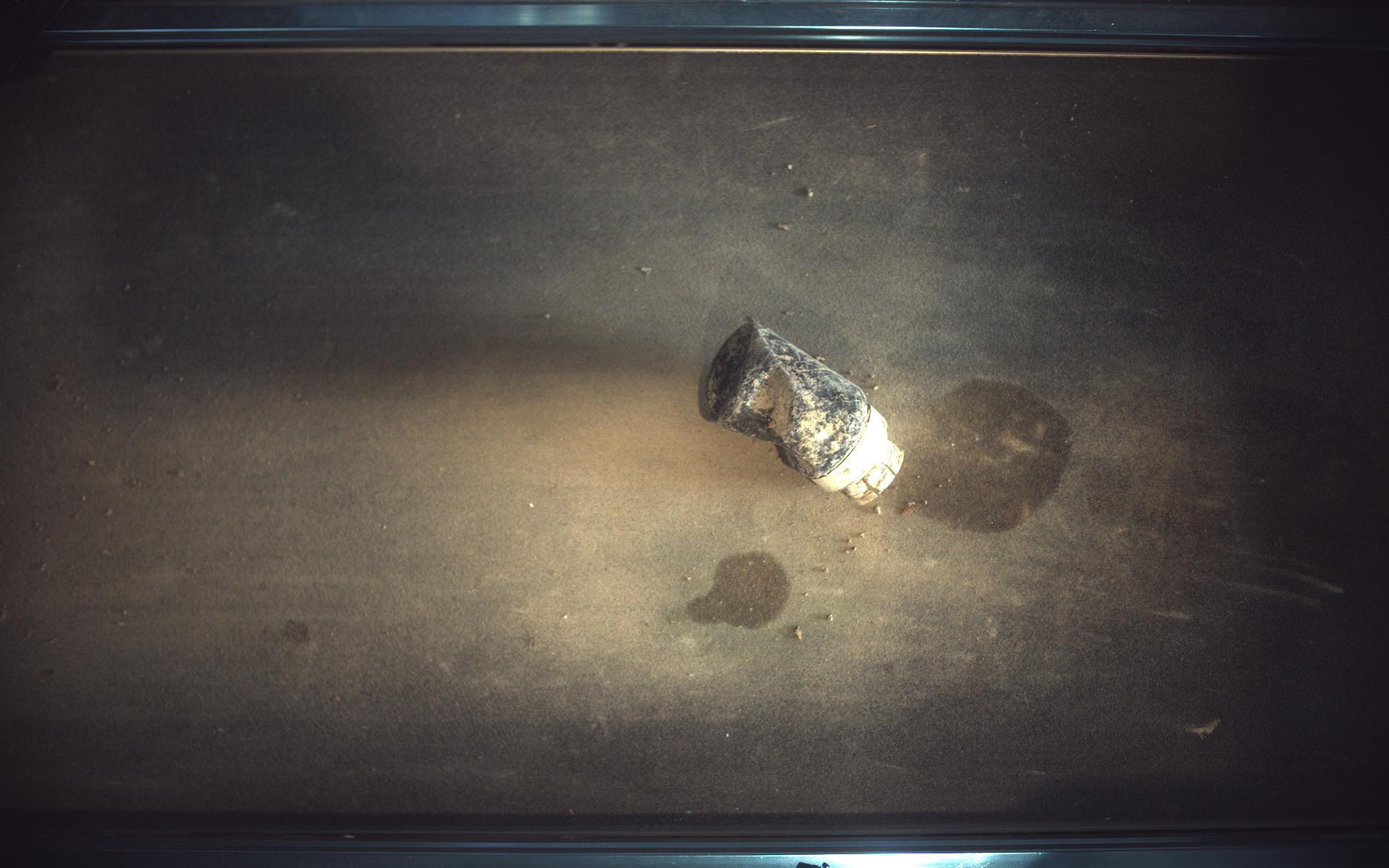general_w: (702, 318, 905, 505)
